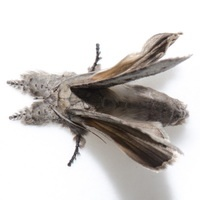insect: (7, 32, 190, 168)
